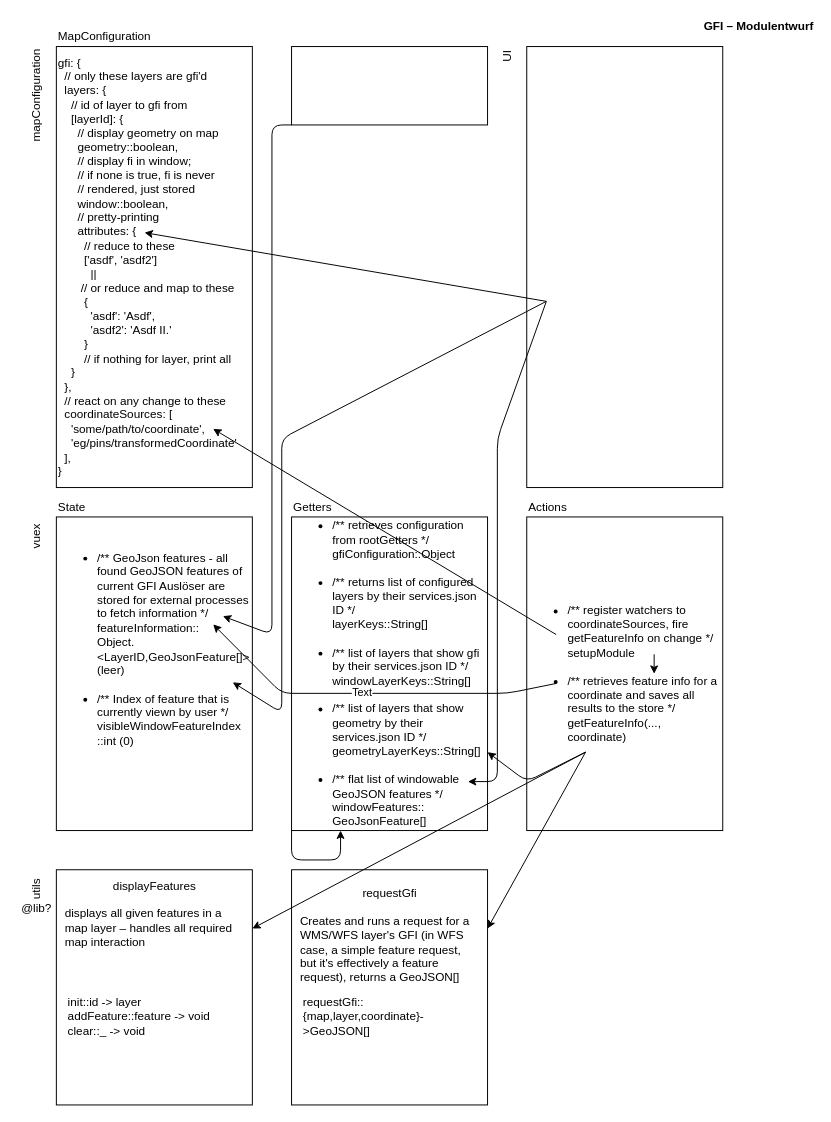
This 831x1122 diagram has some shape labels left out. Each missing label, with the centre of its shape:
TEMPLATE <widget> <FI for chosen element> <feature toggler if multiple feats>: point 624,267
Umgebungsprozess: point 389,85
